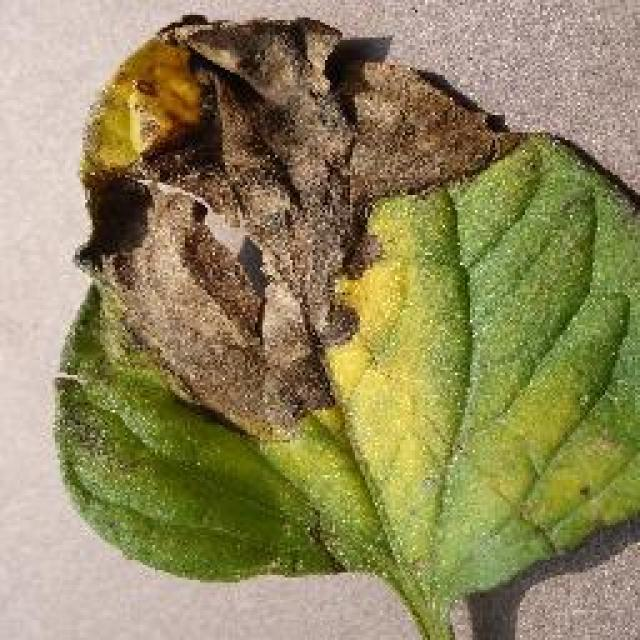Tomato late blight leaf: (56, 18, 640, 593)
